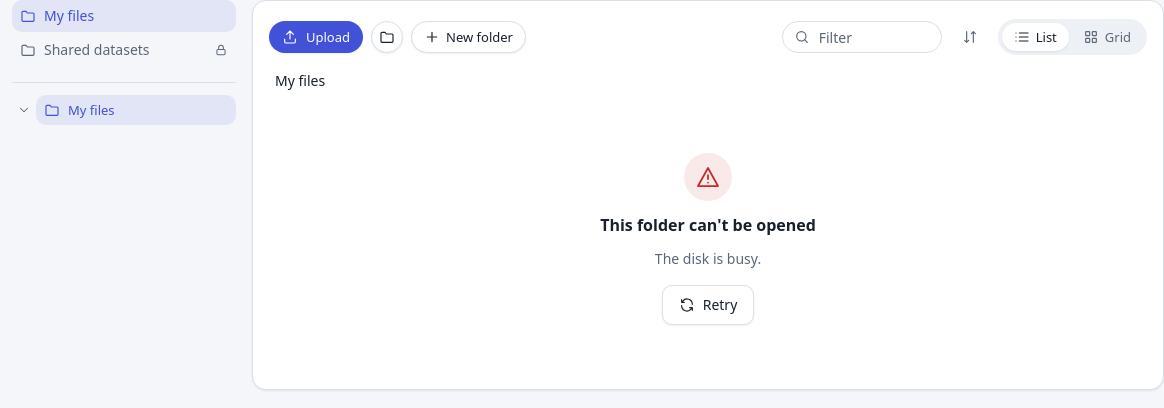
Test: Files workspace › shows an error with Retry that reloads, instead of a bare failure message
Expected: the message shows "The disk is busy.", [655,249,761,268]
Click the button "Retry": (708, 305) [662,285,754,325]
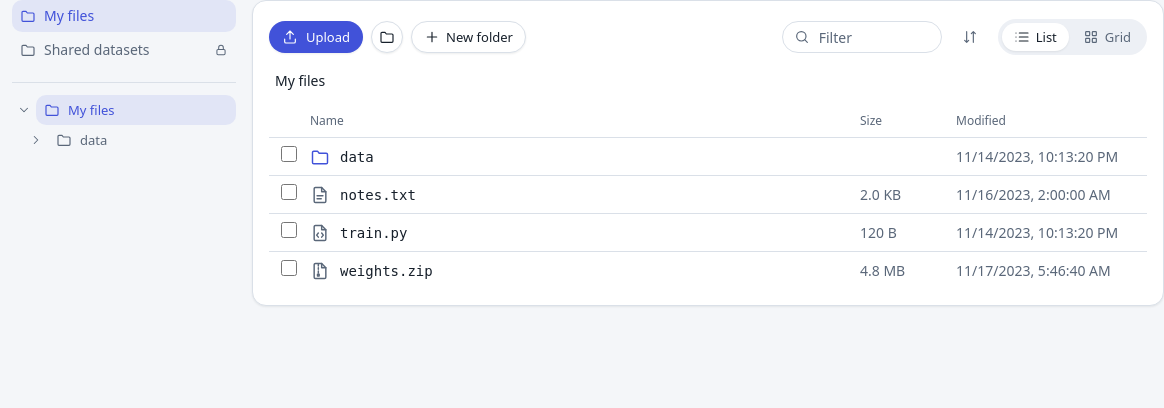
Result: the button "train.py" is shown at [340,222,407,242]
